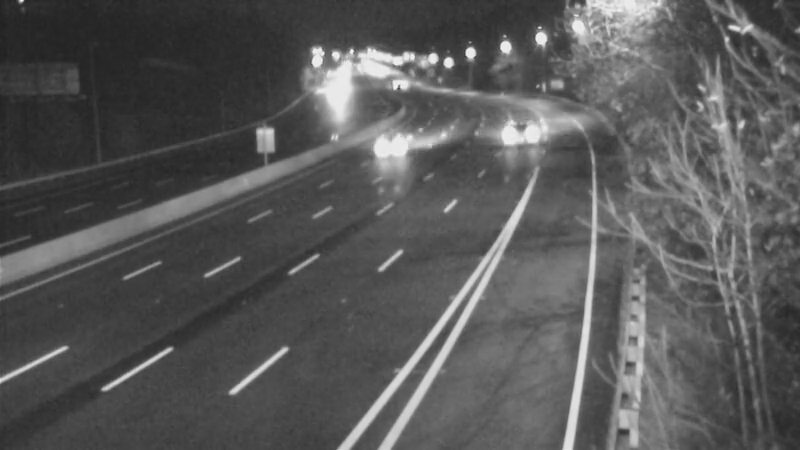vehicle: (370, 61, 420, 111), (494, 106, 544, 156), (369, 124, 419, 174), (310, 68, 360, 118)
